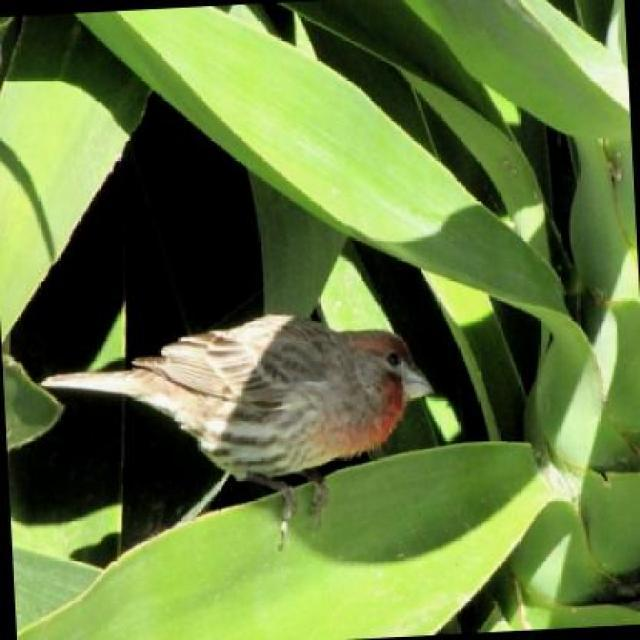Bird: (38, 317, 475, 524)
